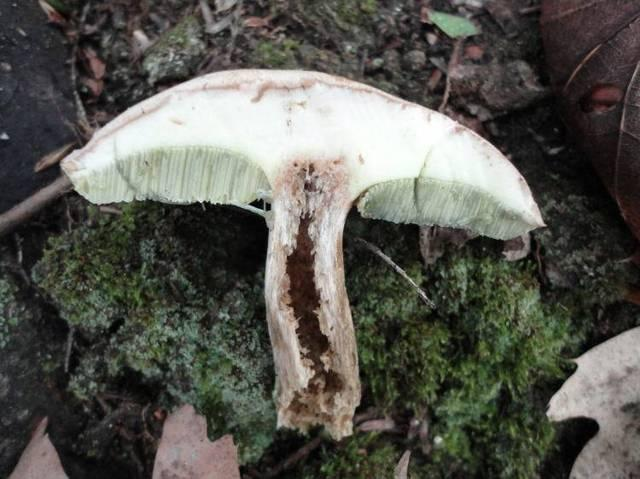Edible Mushroom: (58, 66, 547, 443)
